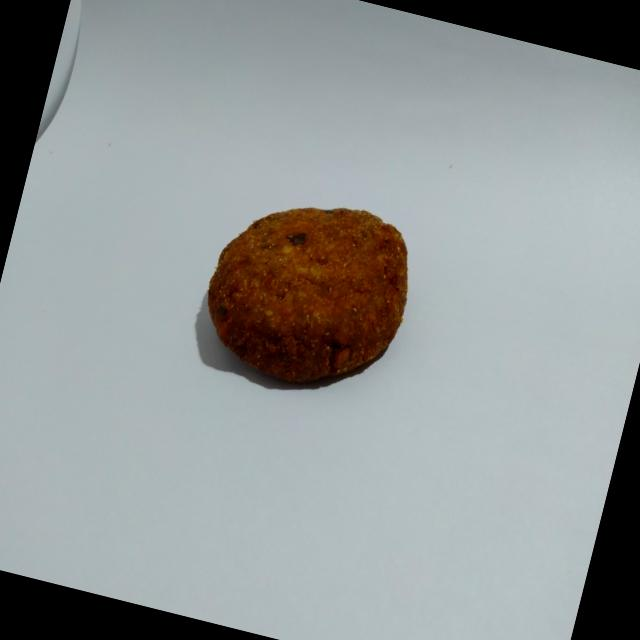Pajagua: (178, 172, 434, 420)
